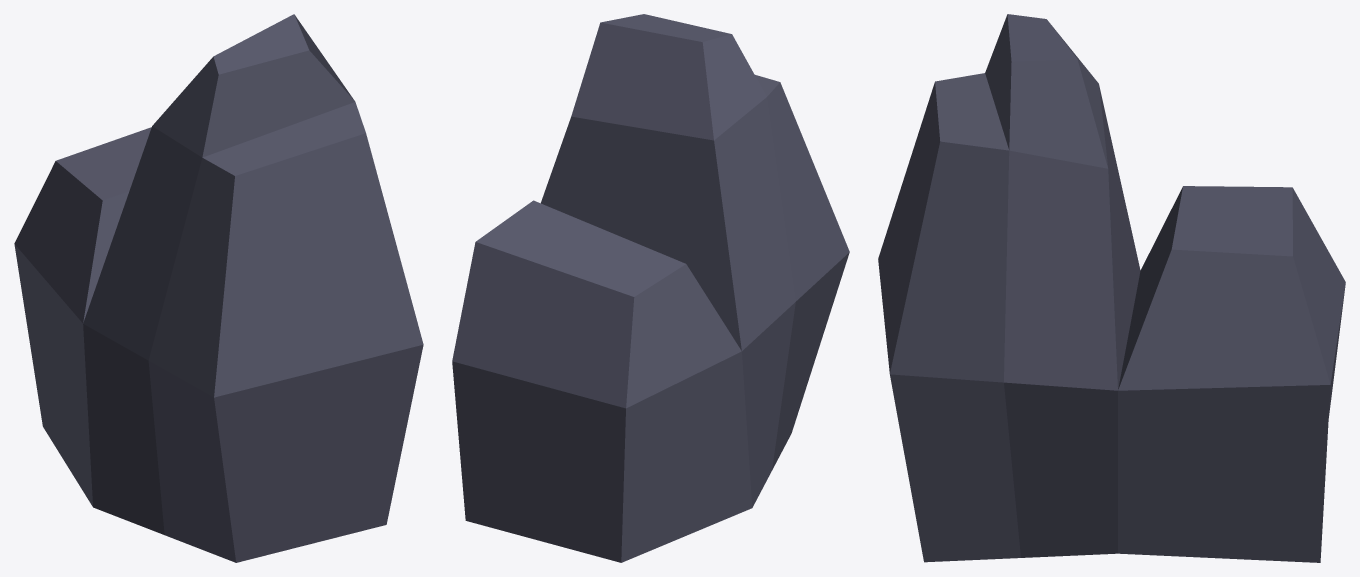
Rendered from Rock3.fbx.
3 views of the same model, side by side, from view 1: azimuth 30°, elevation 25°; view 2: azimuth 150°, elevation 25°; view 3: azimuth 270°, elevation 25° (orthographic). The views are drawn at different scales.
Visible parts, largest first — view 1: Cube.396; view 2: Cube.396; view 3: Cube.396.
Boxes of the visible parts, bbox=[...] form: Cube.396: bbox=[14, 14, 423, 562]; Cube.396: bbox=[452, 14, 849, 562]; Cube.396: bbox=[878, 14, 1345, 562].
Size of the model in its own units: 2692 by 4675 by 4025.
